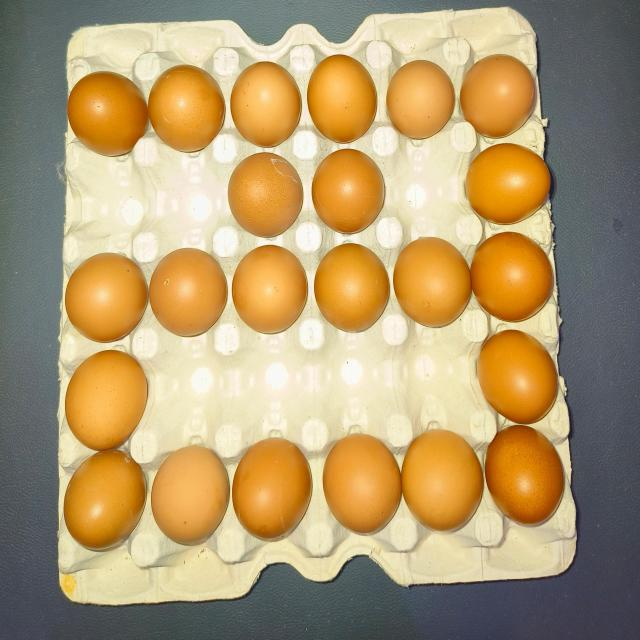Eggs: (488, 422, 568, 532), (236, 440, 315, 551), (400, 433, 484, 532), (324, 433, 400, 539), (65, 456, 143, 556), (472, 228, 552, 323), (66, 353, 150, 443), (75, 65, 149, 167), (150, 244, 230, 337), (396, 234, 466, 337), (315, 241, 390, 333), (465, 151, 553, 227), (388, 51, 458, 145), (66, 250, 142, 335), (465, 42, 534, 134), (480, 336, 555, 420), (156, 447, 222, 542), (152, 68, 222, 156), (314, 50, 378, 146), (236, 247, 306, 333), (312, 150, 382, 233), (238, 58, 302, 145), (229, 157, 301, 232)
